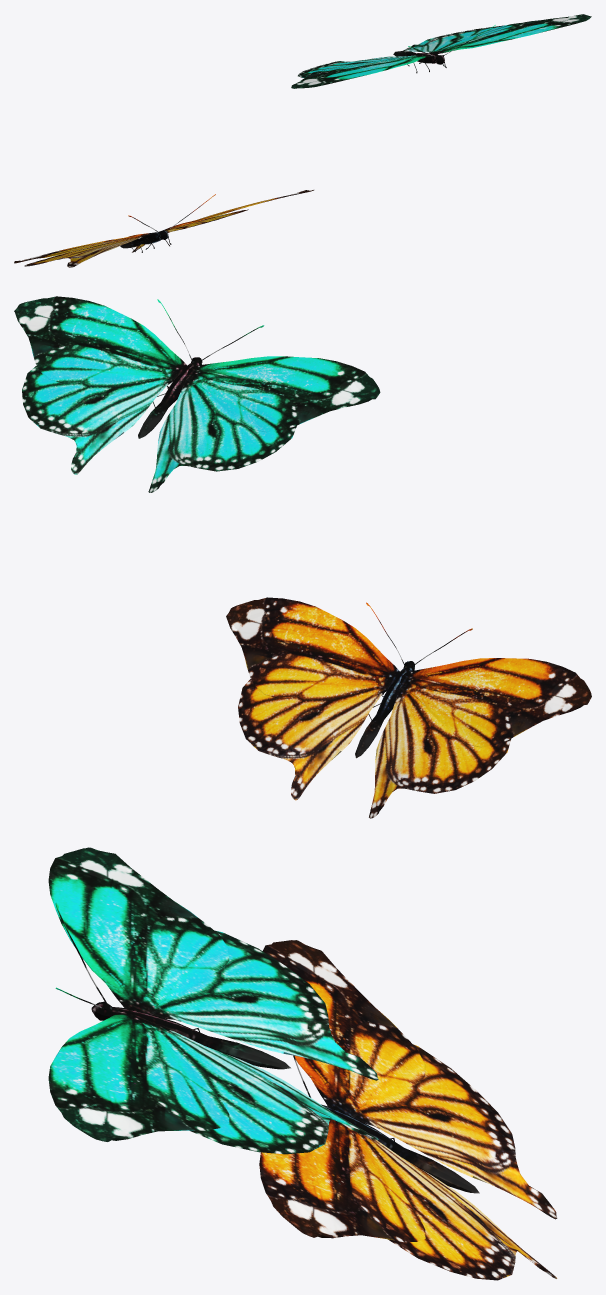
Rendered from butterflies.glb.
3 views of the same model, one above another, from view 1: azimuth 30°, elevation 25°; view 2: azimuth 150°, elevation 25°; view 3: azimuth 270°, elevation 25° (orthographic). The views are drawn at different scales.
Visible parts, largest first — view 1: pasted__Wings_Top1_Wings_Top1, pasted__Wings_Side1_Wings_Side1, Wings_Side1_Wings_Side1, Wings_Top1_Wings_Top1, Body, pasted__Body; view 2: Wings_Top1_Wings_Top1, pasted__Wings_Top1_Wings_Top1, Wings_Side1_Wings_Side1, pasted__Wings_Side1_Wings_Side1, Body, pasted__Body; view 3: pasted__Wings_Top1_Wings_Top1, Wings_Top1_Wings_Top1, pasted__Wings_Side1_Wings_Side1, Wings_Side1_Wings_Side1, pasted__Body, Body.
Part boxes in pixels (x1,y1,x2,y2): pasted__Wings_Top1_Wings_Top1: (291,14,591,88); pasted__Wings_Side1_Wings_Side1: (298,25,504,77); Wings_Side1_Wings_Side1: (24,209,248,267); Wings_Top1_Wings_Top1: (14,190,313,263); Body: (120,194,215,252); pasted__Body: (393,25,495,73); Wings_Top1_Wings_Top1: (226,597,591,747); pasted__Wings_Top1_Wings_Top1: (14,296,380,432); Wings_Side1_Wings_Side1: (238,679,510,818); pasted__Wings_Side1_Wings_Side1: (22,365,296,492); Body: (355,602,472,758); pasted__Body: (138,299,264,438); pasted__Wings_Top1_Wings_Top1: (48,847,229,1141); Wings_Top1_Wings_Top1: (259,940,425,1242); pasted__Wings_Side1_Wings_Side1: (139,930,378,1154); Wings_Side1_Wings_Side1: (343,1044,557,1280); pasted__Body: (55,902,290,1069); Body: (293,1055,479,1193).
Bounding box in the file's own units: 300 × 144 × 127.
2 materials, 2 textured.
